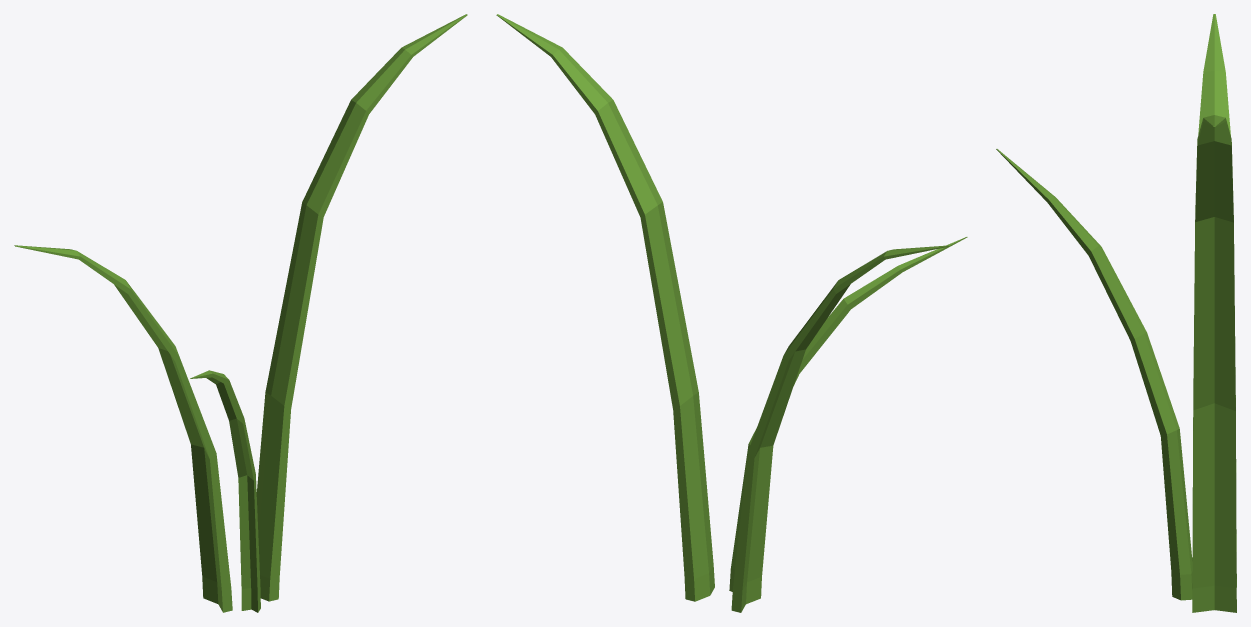
File: Grass3.fbx
3 renders of one model, left to right at view 1: azimuth 30°, elevation 25°; view 2: azimuth 150°, elevation 25°; view 3: azimuth 270°, elevation 25°, orthographic. The views are drawn at different scales.
Parts seen in each view (by area): view 1: Grass3; view 2: Grass3; view 3: Grass3.
Boxes of the visible parts, left/top/right/bottom form: Grass3: left=14, top=14, right=467, bottom=612; Grass3: left=496, top=14, right=967, bottom=612; Grass3: left=996, top=14, right=1236, bottom=612.
Bounding box in the file's own units: 34.13 × 38.13 × 13.97.
